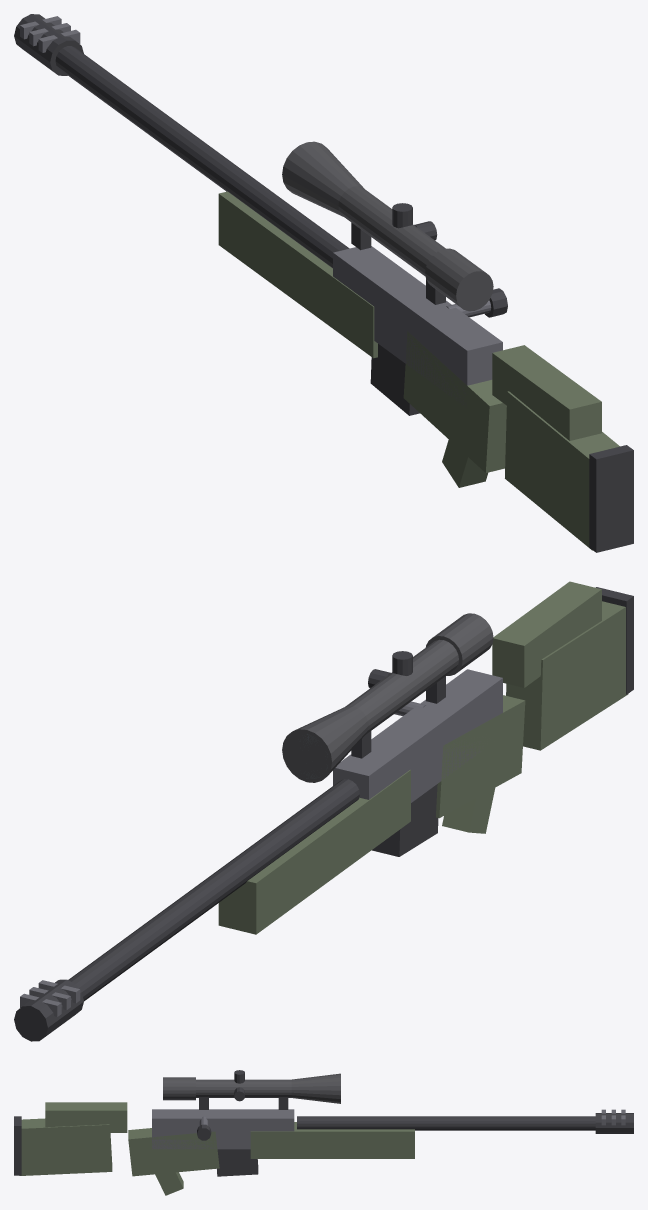
The model's file is sniper.glb.
3 renders of one model, top to bottom at view 1: azimuth 30°, elevation 25°; view 2: azimuth 150°, elevation 25°; view 3: azimuth 270°, elevation 25°, orthographic. The views are drawn at different scales.
Visible parts, largest first — view 1: receiver, barrel, fore, butt, mid, cheek, buttpad, scope_tube, scope_obj, scope_ocu, mag, brake (+1 smaller); view 2: fore, receiver, butt, barrel, cheek, mid, scope_obj, scope_tube, brake, mag, scope_ocu, grip (+1 smaller); view 3: fore, butt, receiver, barrel, mid, cheek, scope_tube, scope_obj, mag, scope_ocu, brake, buttpad (+2 smaller).
Boxes of the visible parts, <box> form: receiver: <box>333,246,502,405</box>; barrel: <box>55,46,349,268</box>; fore: <box>218,191,377,358</box>; butt: <box>505,391,619,550</box>; mid: <box>403,331,506,472</box>; cheek: <box>492,345,601,440</box>; buttpad: <box>589,445,633,552</box>; scope_tube: <box>338,186,445,276</box>; scope_obj: <box>282,141,364,216</box>; scope_ocu: <box>425,248,493,311</box>; mag: <box>370,344,419,415</box>; brake: <box>14,14,83,75</box>; fore: <box>218,770,410,934</box>; receiver: <box>333,669,502,802</box>; butt: <box>506,601,628,750</box>; barrel: <box>68,779,359,1001</box>; cheek: <box>492,581,601,687</box>; mid: <box>436,695,525,818</box>; scope_obj: <box>282,706,368,782</box>; scope_tube: <box>345,639,458,734</box>; brake: <box>14,979,83,1041</box>; mag: <box>372,784,438,856</box>; scope_ocu: <box>425,613,493,675</box>; grip: <box>442,788,495,833</box>; fore: <box>250,1122,414,1158</box>; butt: <box>19,1118,112,1175</box>; receiver: <box>152,1109,294,1149</box>; barrel: <box>297,1116,595,1130</box>; mid: <box>128,1128,219,1176</box>; cheek: <box>45,1102,127,1132</box>; scope_tube: <box>196,1079,291,1097</box>; scope_obj: <box>291,1073,340,1103</box>; mag: <box>217,1149,258,1176</box>; scope_ocu: <box>163,1077,195,1100</box>; brake: <box>595,1113,633,1133</box>; buttpad: <box>14,1116,21,1175</box>.
Size of the model in its own units: 0.101 by 0.2419 by 1.13.
